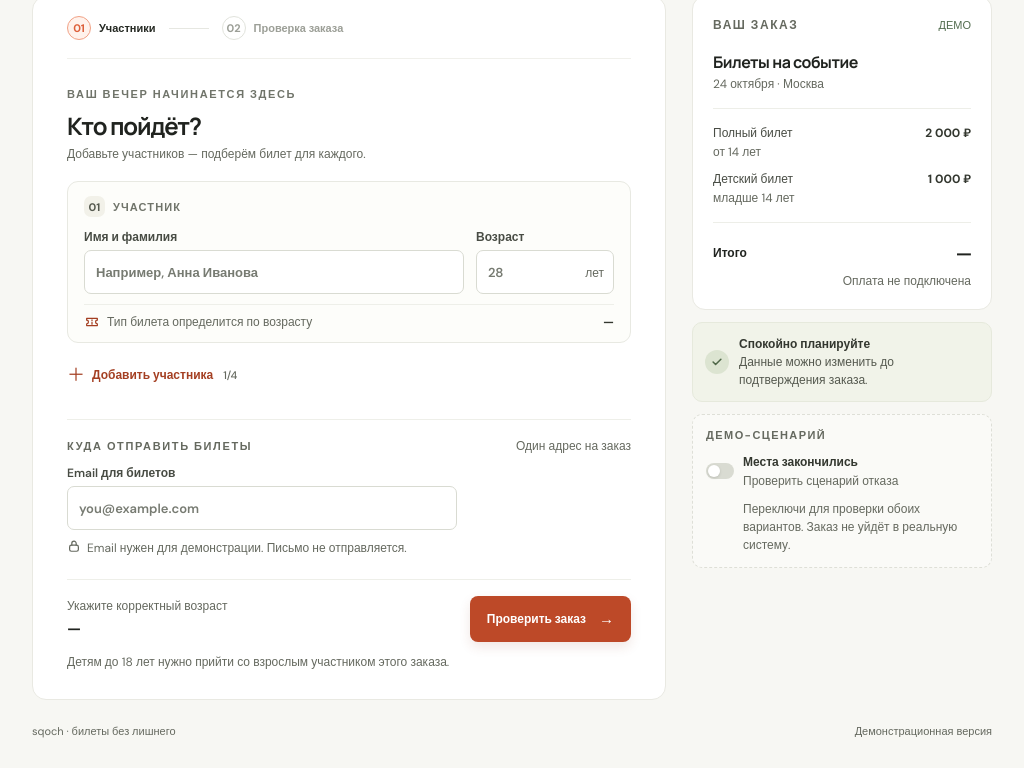
Scenario: ticket booking flow › moves focus to the first invalid field after rendering validation errors
(page scrolled)
What coordinates should you click on to do the following:
click the button "Проверить заказ →"
I would click on:
 (550, 619)
Its box is [470,596,631,642].
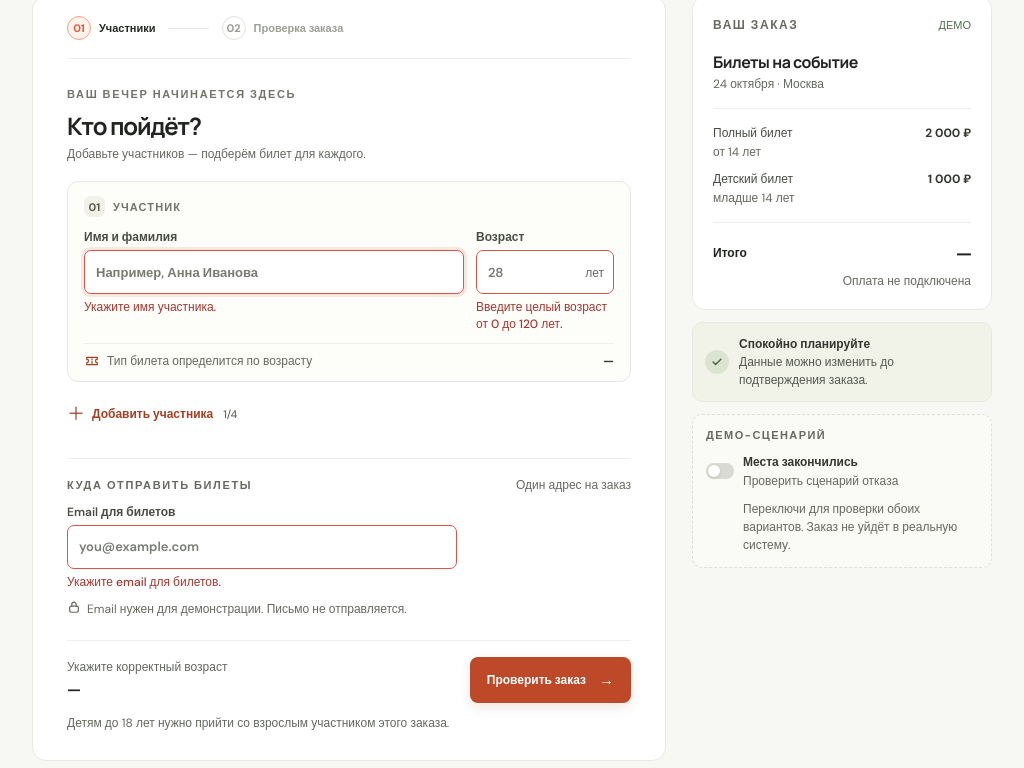
Check: the text "Укажите имя участника." is shown, box [84,299,216,315]
Check: the text "Укажите email для билетов." is shown, box [67,574,221,590]
